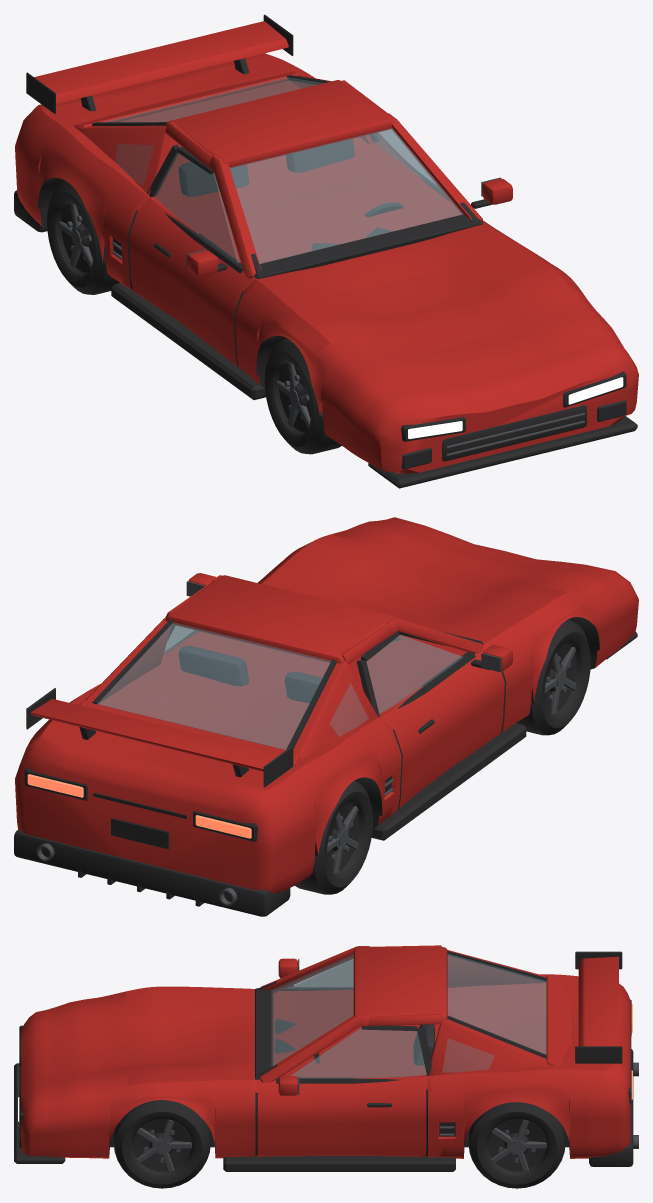
File: SportsCar.fbx
The picture shows the model from 3 angles, top to bottom: view 1: azimuth 30°, elevation 25°; view 2: azimuth 150°, elevation 25°; view 3: azimuth 270°, elevation 25°; orthographic projection. The views are drawn at different scales.
Parts seen in each view (by area): view 1: SportsCar_Mesh; view 2: SportsCar_Mesh; view 3: SportsCar_Mesh.
Boxes of the visible parts, <box> form: SportsCar_Mesh: <box>14,14,638,488</box>; SportsCar_Mesh: <box>14,517,638,916</box>; SportsCar_Mesh: <box>14,945,638,1188</box>.
Size of the model in its own units: 2.15 by 1.25 by 4.51.
